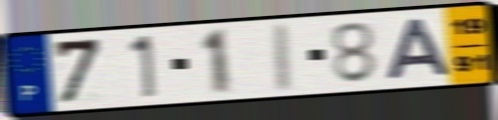1: (200, 26, 237, 98), (126, 33, 160, 100)
7: (52, 36, 105, 106)
8: (328, 21, 378, 85)
A: (381, 16, 456, 82)
I: (273, 21, 297, 95)
